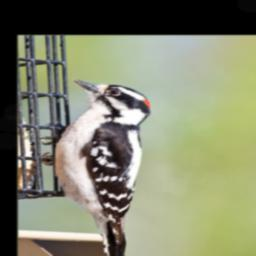Woodpecker: (40, 78, 154, 256)
